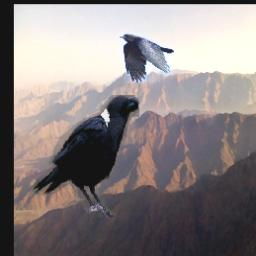Crow: (33, 96, 139, 220), (119, 34, 174, 84)
